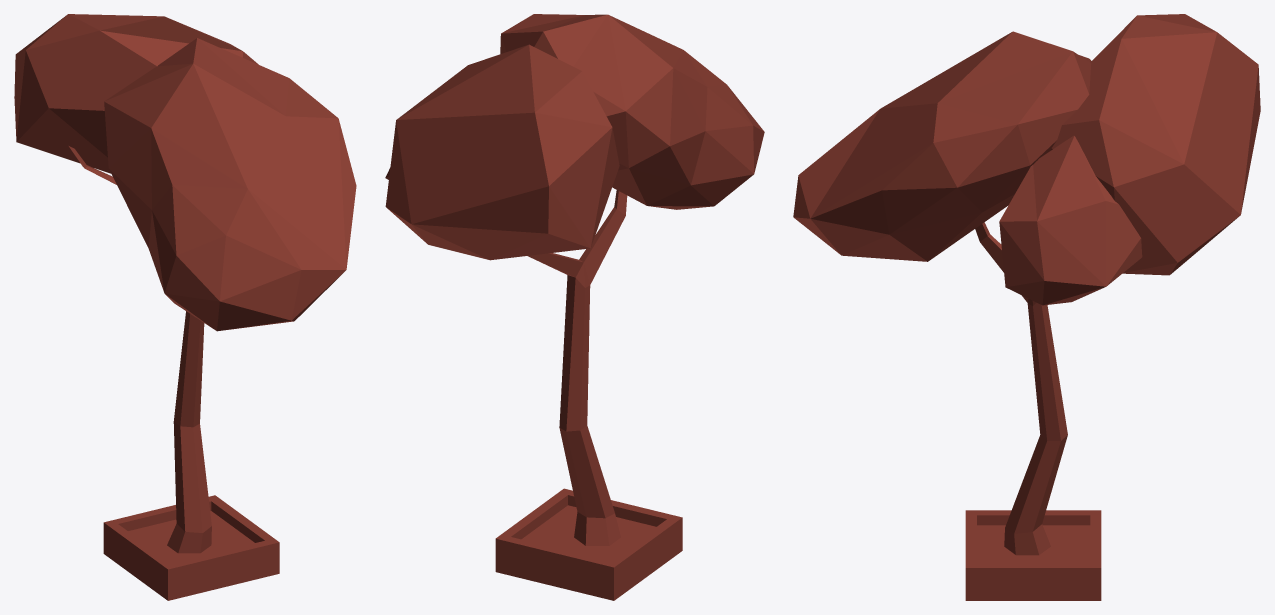
The model's file is Tree02.fbx.
3 renders of one model, left to right at view 1: azimuth 30°, elevation 25°; view 2: azimuth 150°, elevation 25°; view 3: azimuth 270°, elevation 25°, orthographic. The views are drawn at different scales.
Parts seen in each view (by area): view 1: Tree02; view 2: Tree02; view 3: Tree02.
Part boxes in pixels (box(x1,y1,x2,y2)): Tree02: box(14, 14, 356, 600); Tree02: box(385, 14, 764, 600); Tree02: box(793, 14, 1260, 600).
Bounding box in the file's own units: 228 × 440 × 344.
